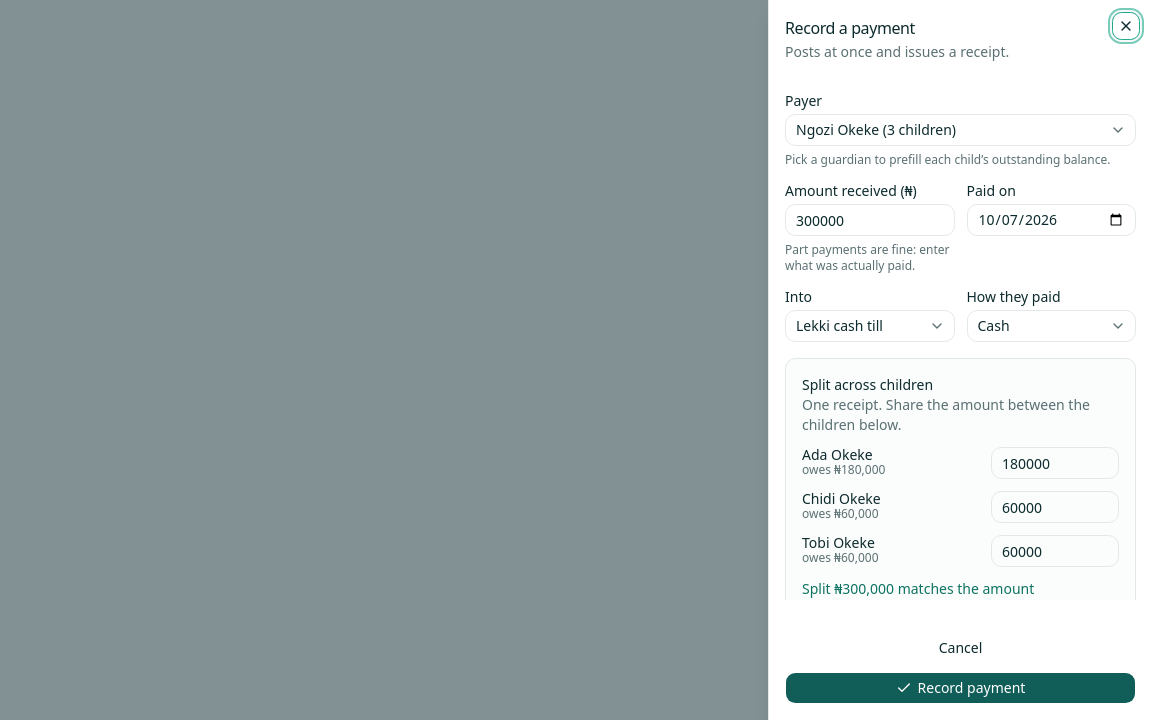
Test: RecordPaymentSheet › asks for the proof of a transfer inline and keeps the sheet open
Select "Bank transfer" in the dropdown labelled "How they paid" at (1051, 326), box [966,310,1136,342]
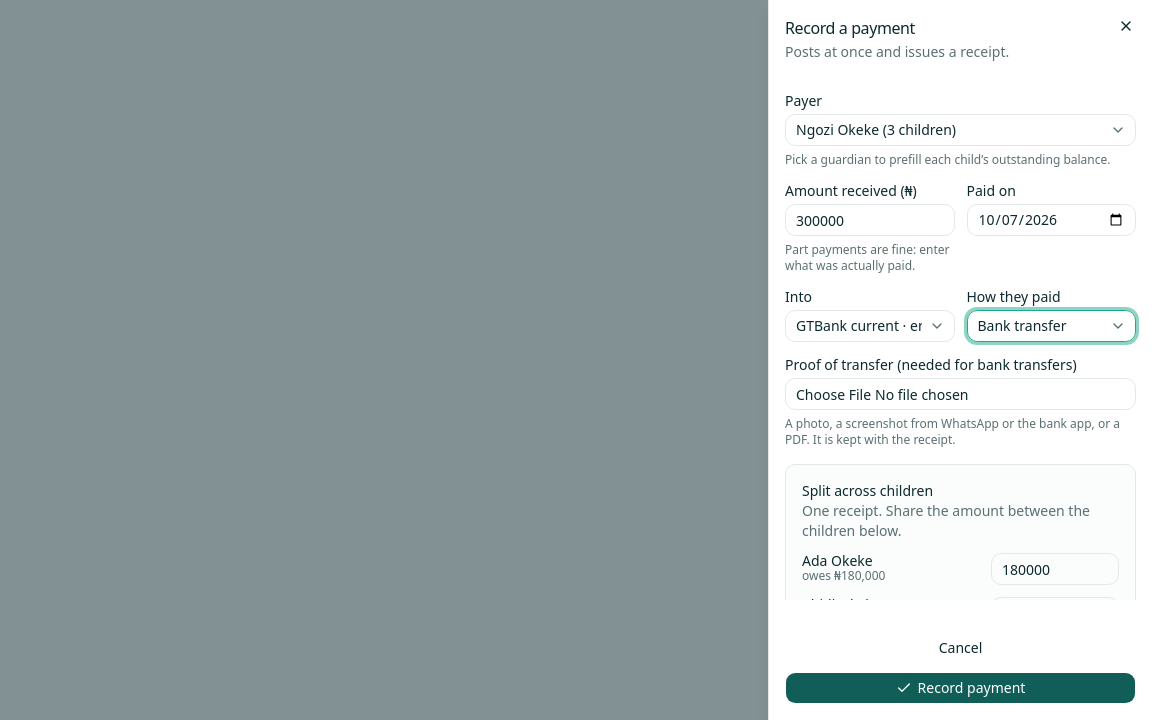
Click the button "Record payment".
click(960, 688)  # box [785,672,1136,704]
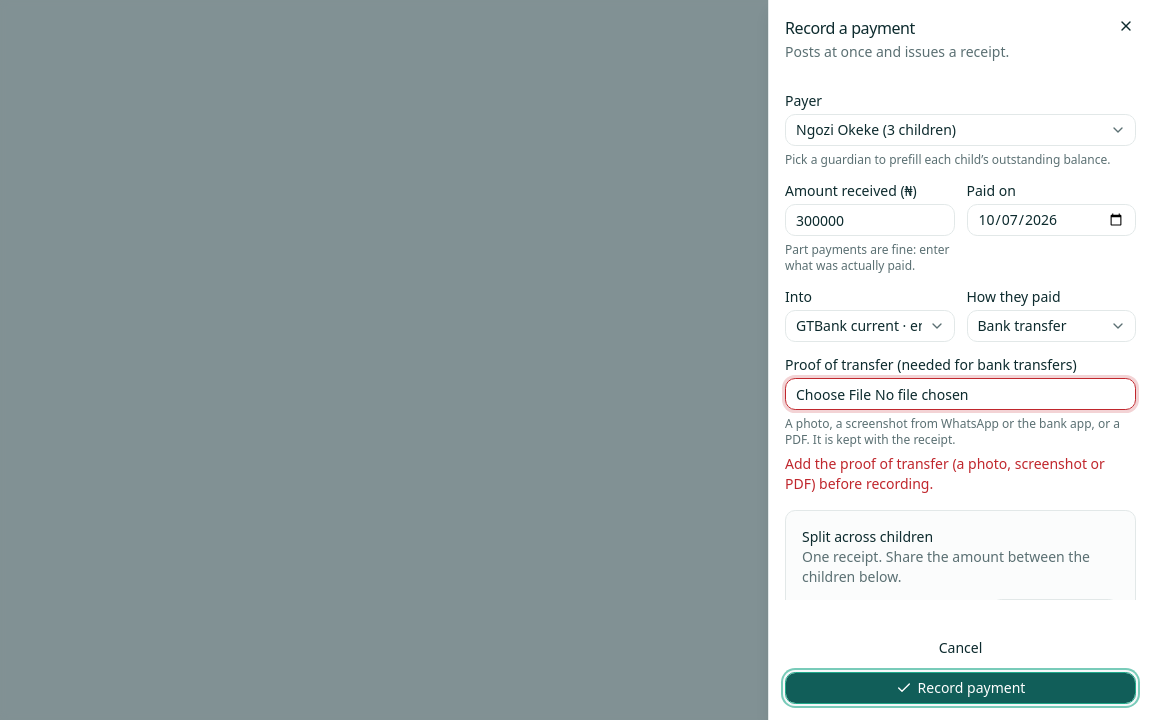
Expected: the text "Add the proof of transfer (a photo, screenshot or PDF) before recording." is shown, [785,454,1136,494]
